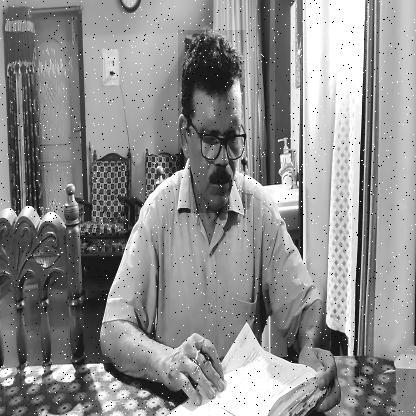Normal: (178, 30, 245, 213)
